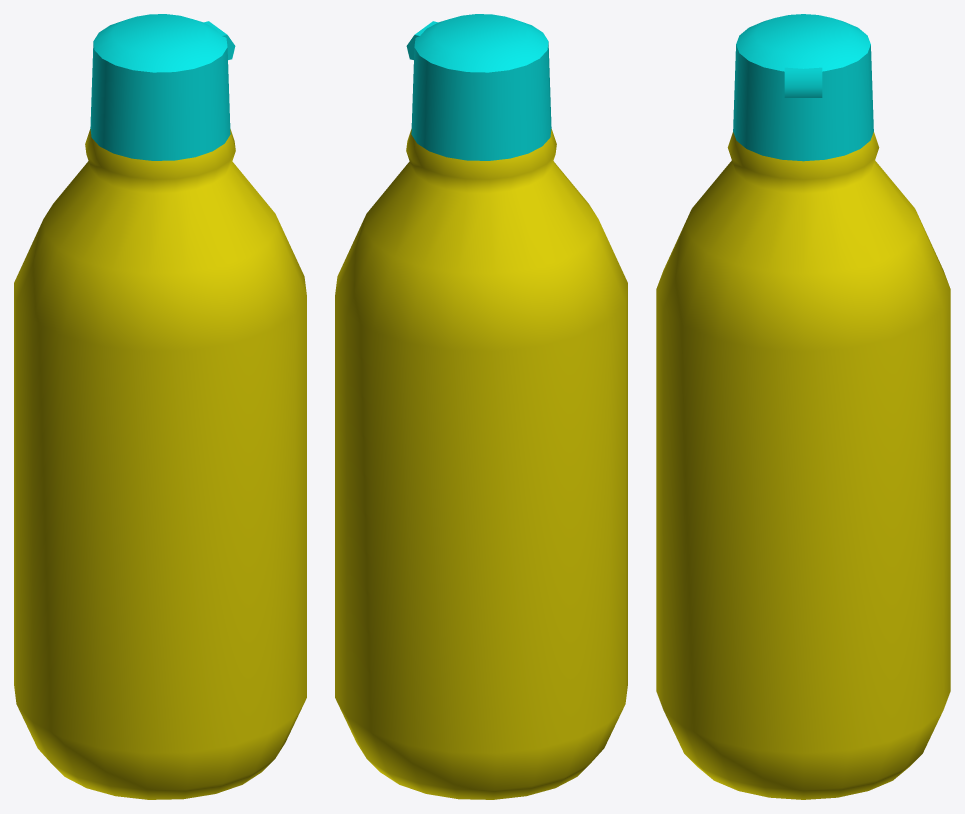
Rendered from Alcohol_LowPoly_v1.fbx.
3 renders of one model, left to right at view 1: azimuth 30°, elevation 25°; view 2: azimuth 150°, elevation 25°; view 3: azimuth 270°, elevation 25°, orthographic.
Parts seen in each view (by area): view 1: polySurface3, polySurface4; view 2: polySurface3, polySurface4; view 3: polySurface3, polySurface4, pCube2.
Boxes of the visible parts, x1,y1,x2,y2 form: polySurface3: (14,129,306,799); polySurface4: (90,14,230,160); polySurface3: (335,129,627,799); polySurface4: (411,14,551,160); polySurface3: (656,132,950,799); polySurface4: (733,14,873,161); pCube2: (784,67,822,97).
Bounding box in the file's own units: 5 × 13.58 × 5.
